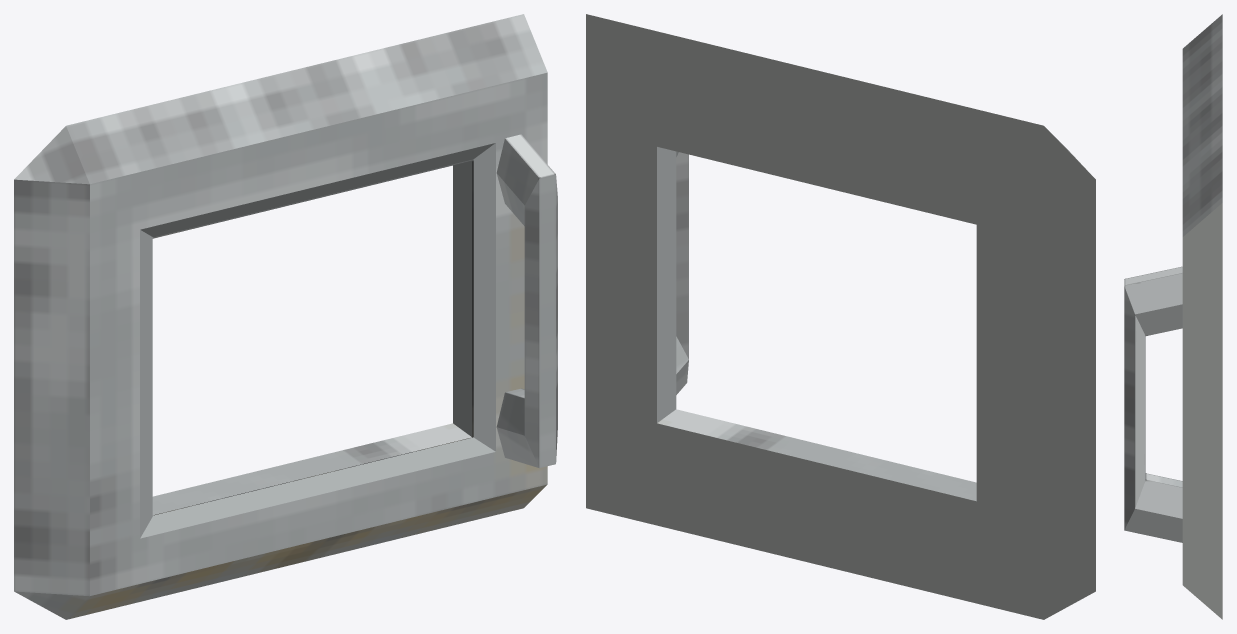
Rendered from MWdoor.obj.
3 views of the same model, side by side, from view 1: azimuth 30°, elevation 25°; view 2: azimuth 150°, elevation 25°; view 3: azimuth 270°, elevation 25° (orthographic). The views are drawn at different scales.
Visible parts, largest first — view 1: beveled_cuboid.010; view 2: beveled_cuboid.010; view 3: beveled_cuboid.010.
Part boxes in pixels (bbox=[...]): beveled_cuboid.010: bbox=[14, 14, 557, 619]; beveled_cuboid.010: bbox=[586, 14, 1095, 619]; beveled_cuboid.010: bbox=[1124, 14, 1222, 619].
Size of the model in its own units: 2.02 by 1.87 by 0.4009.
